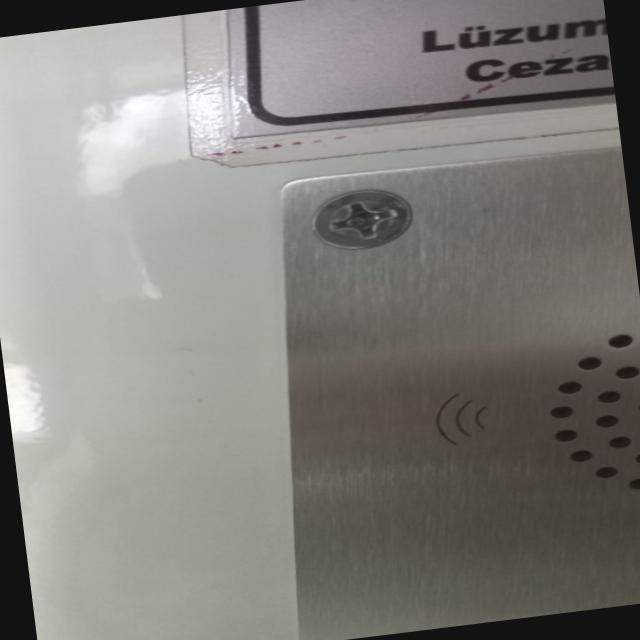Phillips: (308, 190, 418, 252)
